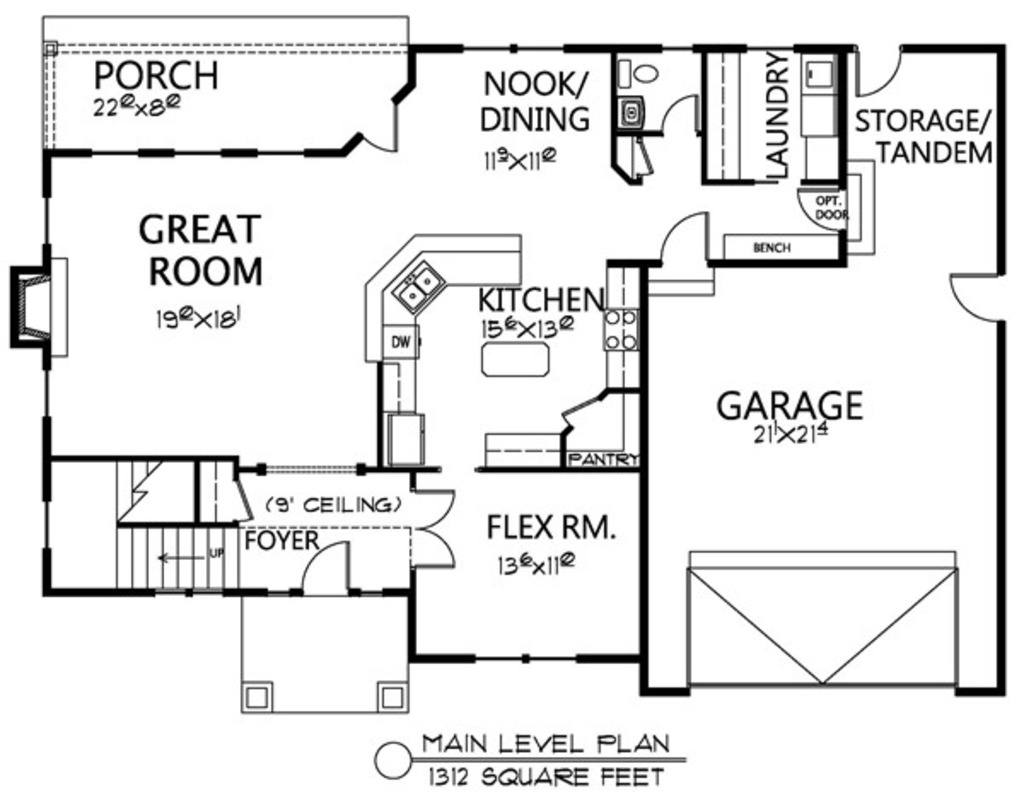door: (410, 483, 462, 583), (949, 265, 1016, 330), (659, 212, 721, 277), (355, 95, 415, 160), (847, 45, 912, 104), (794, 187, 861, 237), (296, 544, 355, 593), (660, 93, 712, 142), (229, 480, 256, 522)
large_sink: (616, 57, 660, 87)
small_sink: (620, 95, 641, 130)
stairs: (106, 459, 240, 599)
twin_sink: (377, 257, 457, 318)
